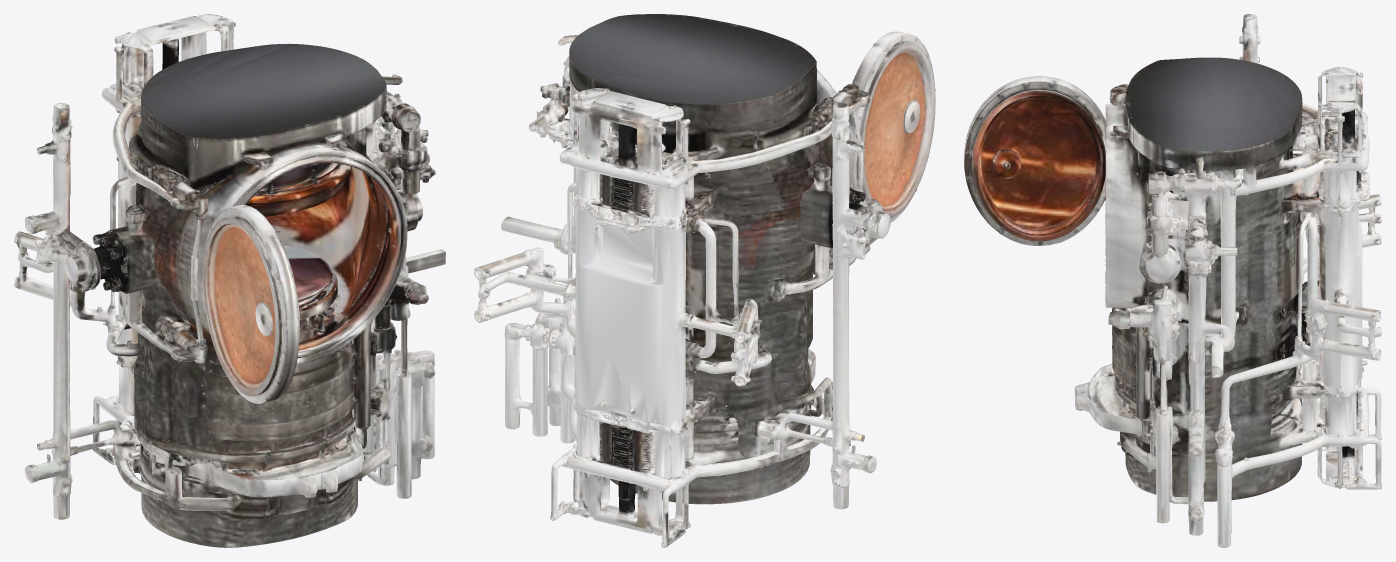
Rendered from vacuum_chamber.glb.
3 views of the same model, side by side, from view 1: azimuth 30°, elevation 25°; view 2: azimuth 150°, elevation 25°; view 3: azimuth 270°, elevation 25° (orthographic). The views are drawn at different scales.
Bounding box in the file's own units: 1.84 × 1.9 × 1.9.
1 material, 1 textured.
